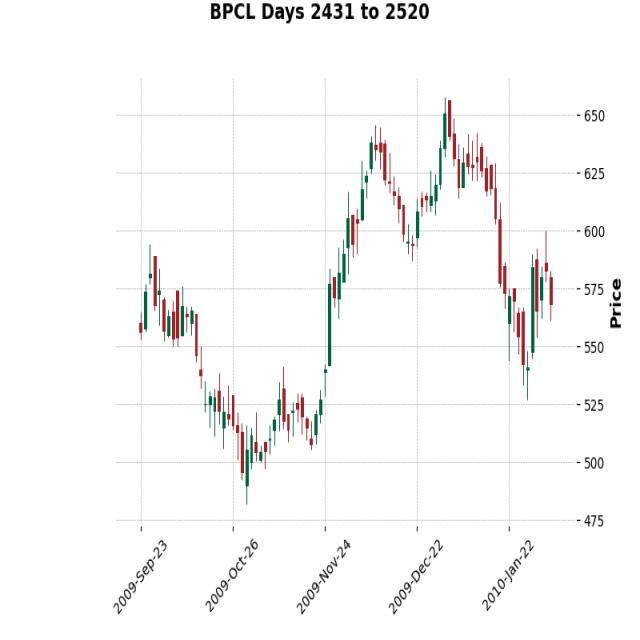Head and Shoulder: (338, 41, 530, 265)
